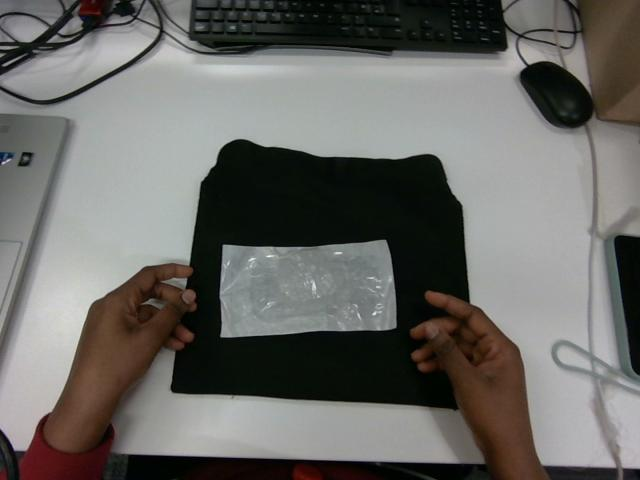gallipot: (220, 240, 396, 337)
